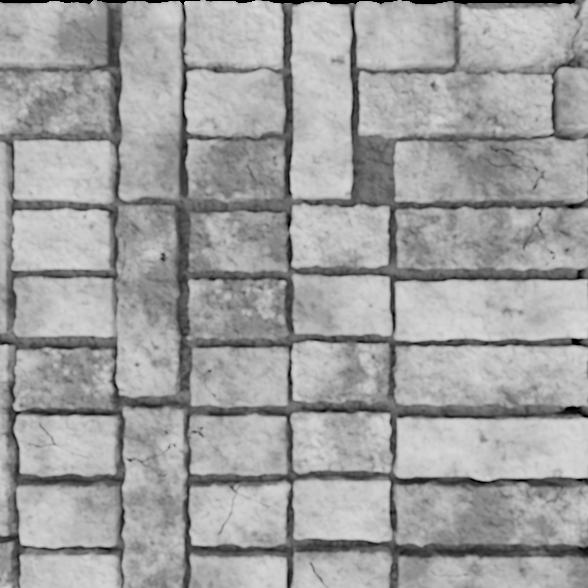brick: (0, 204, 180, 534), (0, 142, 113, 331), (359, 69, 587, 136), (120, 3, 183, 201), (395, 138, 587, 202), (393, 481, 587, 544), (395, 416, 587, 479), (396, 207, 587, 269), (393, 345, 587, 406), (123, 404, 187, 587), (395, 280, 587, 340), (292, 4, 351, 198), (0, 70, 114, 135), (0, 3, 111, 68), (399, 550, 587, 587), (18, 480, 121, 546), (355, 2, 453, 69), (190, 480, 290, 545), (186, 70, 284, 136), (185, 2, 282, 67), (14, 140, 115, 202), (294, 476, 390, 540), (292, 410, 391, 472), (291, 204, 388, 267), (187, 138, 285, 200), (190, 412, 288, 474), (188, 279, 287, 339), (292, 341, 389, 402), (190, 211, 288, 271), (191, 346, 289, 406), (293, 274, 390, 334), (292, 546, 391, 587), (20, 548, 120, 587), (190, 551, 286, 587), (0, 537, 19, 587), (583, 485, 587, 499)
broken_brick: (457, 5, 577, 69), (580, 6, 587, 49), (583, 54, 587, 63)
crack: (0, 0, 587, 78), (520, 206, 556, 260), (550, 103, 587, 142), (123, 453, 169, 479), (188, 425, 222, 457), (193, 364, 217, 398), (550, 403, 587, 419), (115, 238, 126, 284), (575, 476, 587, 506), (563, 199, 586, 210), (576, 266, 587, 289), (571, 336, 586, 348), (577, 544, 587, 556), (184, 49, 190, 61), (582, 512, 587, 521), (579, 371, 586, 375)
